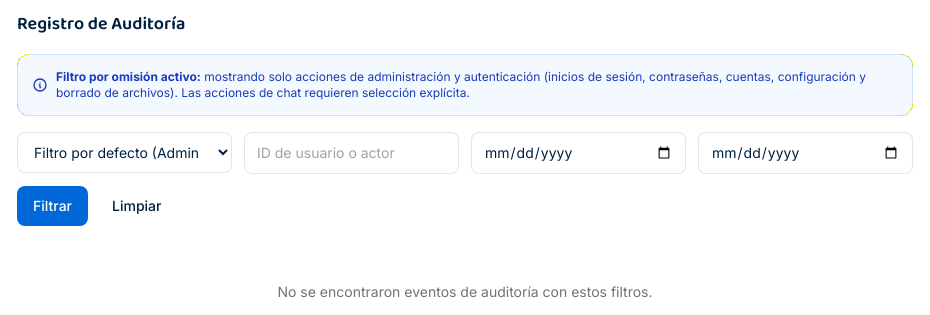
it: AdminAuditPanel › botón Limpiar resetea el formulario y los filtros
This screenshot has width=930, height=315.
Type "u-999" into the field with placeholder "ID de usuario o actor" at coordinates (352, 153), box [244,132,459,174]
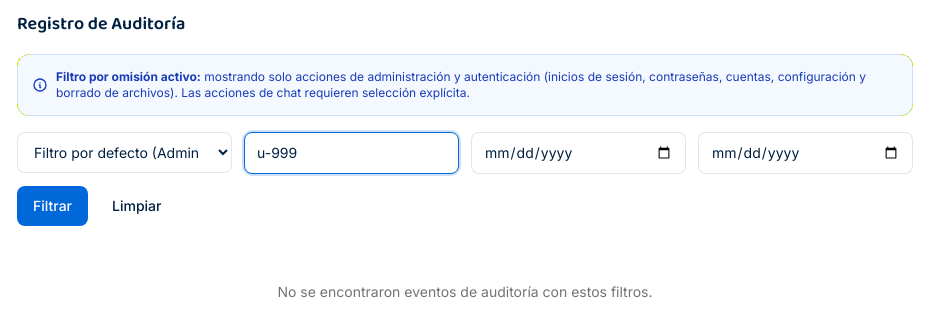
Click the button "Filtrar" at coordinates (52, 206), box [17,186,88,226]
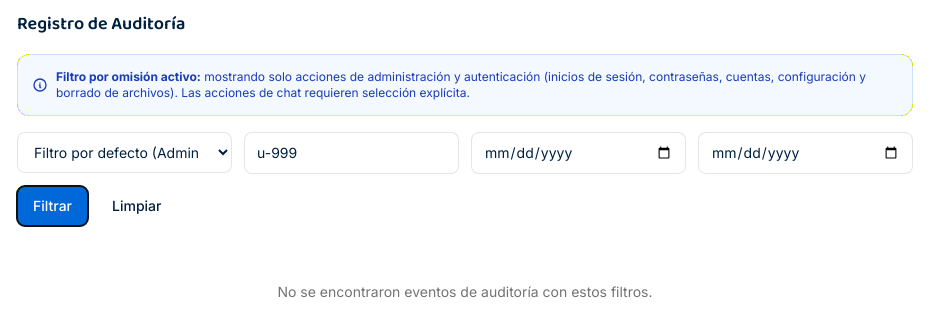
Click the button "Limpiar" at coordinates (137, 206), box [96,186,177,226]
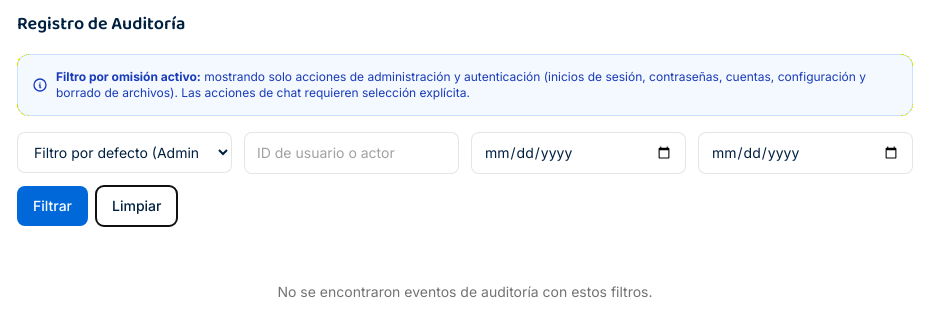
Expected: the field with placeholder "ID de usuario o actor" is empty, [244,132,459,174]
